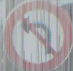Don't turn left: (10, 6, 64, 62)
